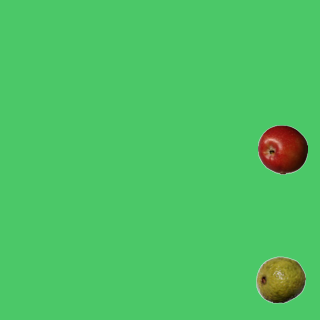Apple Braeburn: (257, 124, 307, 174)
Guava: (255, 254, 305, 304)
